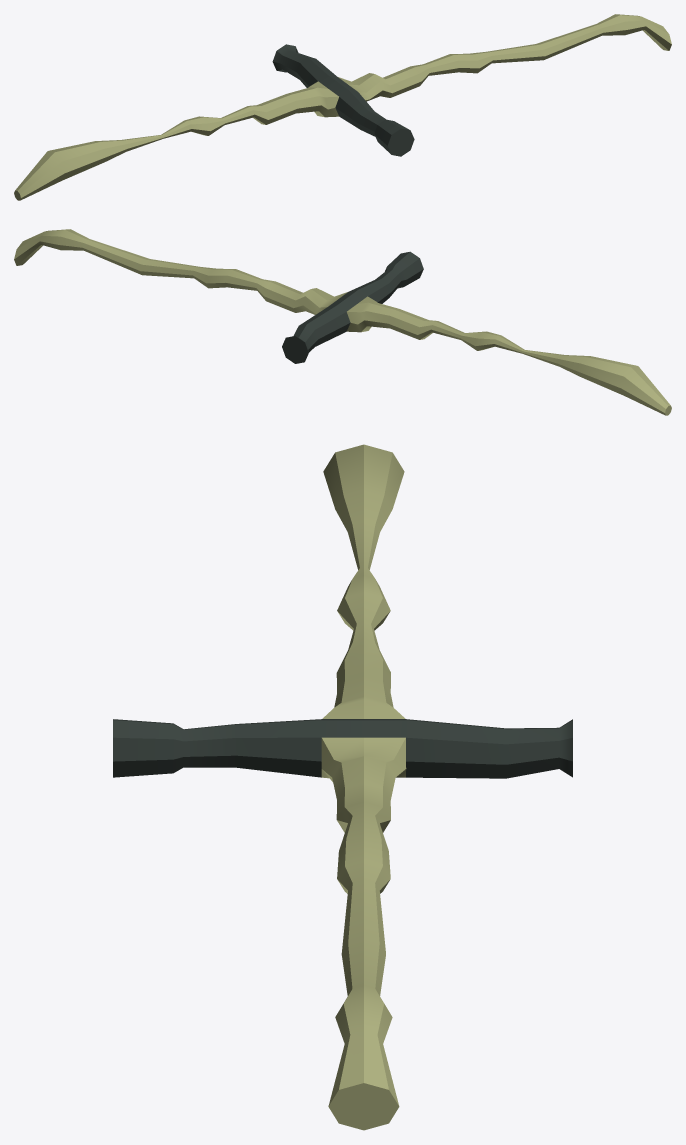
File: 05_ceiling_connection_a.fbx
3 renders of one model, top to bottom at view 1: azimuth 30°, elevation 25°; view 2: azimuth 150°, elevation 25°; view 3: azimuth 270°, elevation 25°, orthographic. The views are drawn at different scales.
Visible parts, largest first — view 1: _ceiling_connection_a; view 2: _ceiling_connection_a; view 3: _ceiling_connection_a.
Part boxes in pixels (x1,y1,x2,y2): _ceiling_connection_a: (14, 14, 671, 200); _ceiling_connection_a: (14, 229, 671, 415); _ceiling_connection_a: (113, 444, 572, 1130).
Bounding box in the file's own units: 2958 × 205 × 913.
